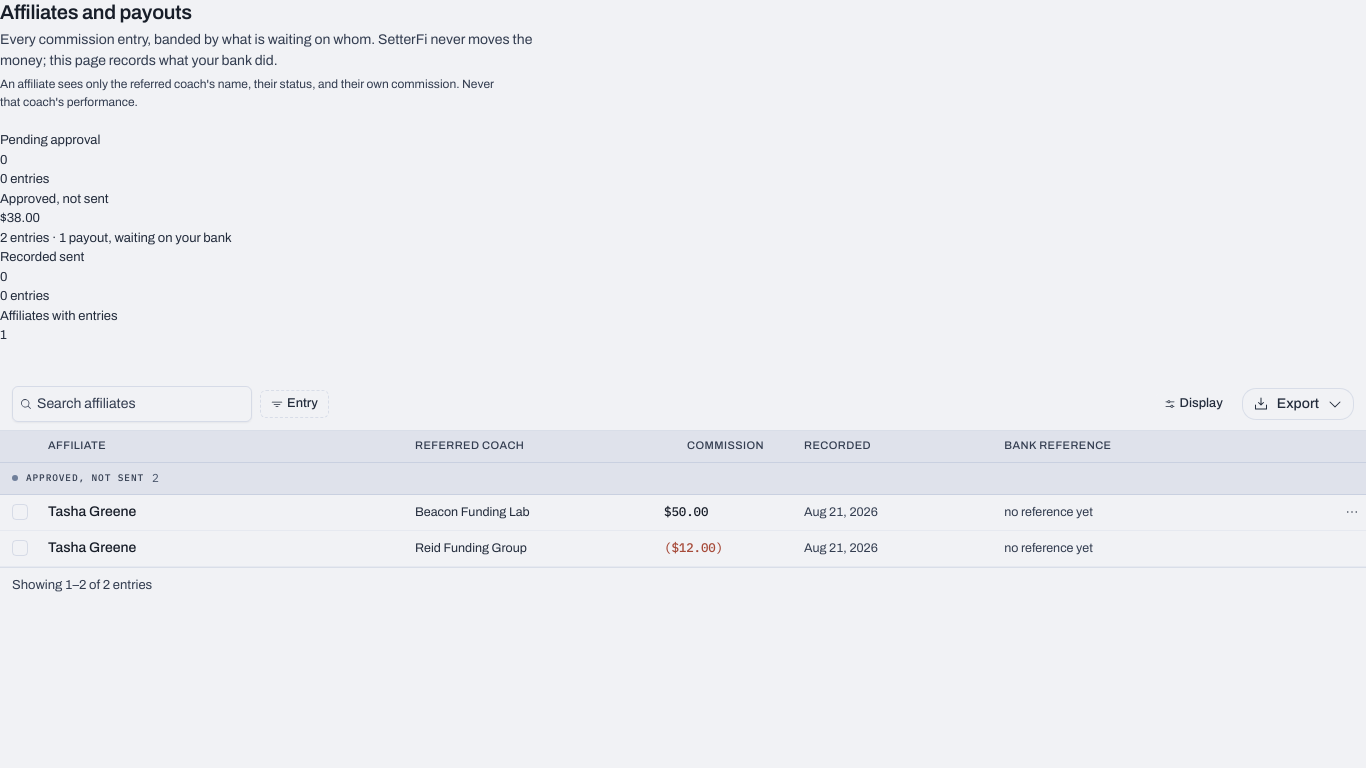
it: AdminMoneyAffiliates › shows what a payout is made of rather than only its total
Click the button "Tasha Greene" next to "Beacon Funding Lab": (92, 511) left=48, top=494, right=391, bottom=530
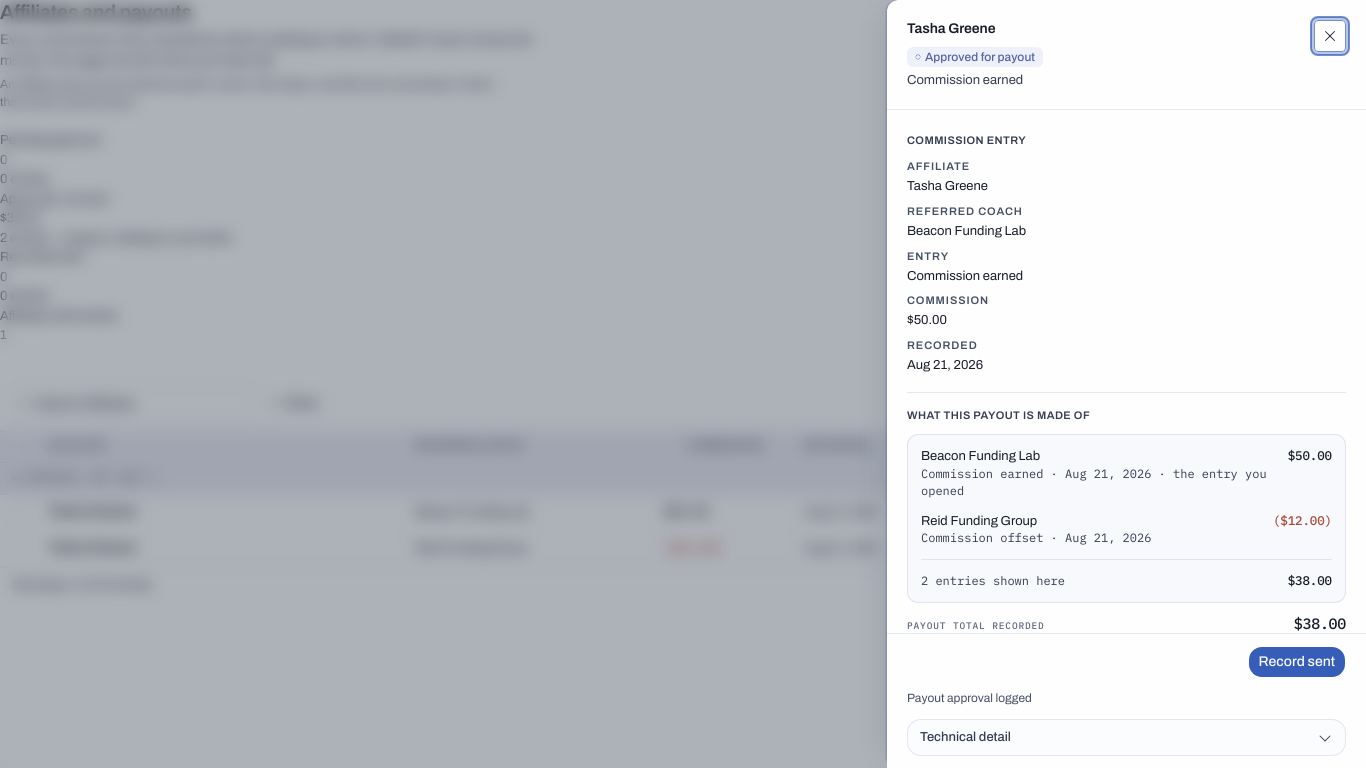
Check: the heading "What this payout is made of" is shown, box left=907, top=409, right=1090, bottom=422
Check: the 2nd text "Beacon Funding Lab" is shown, box left=921, top=449, right=1040, bottom=463
Check: the text "Reid Funding Group" is shown, box left=921, top=514, right=1037, bottom=528
